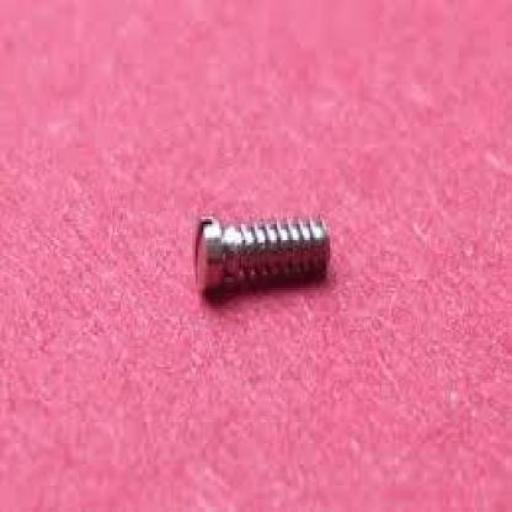Bolt: (195, 216, 330, 300)
